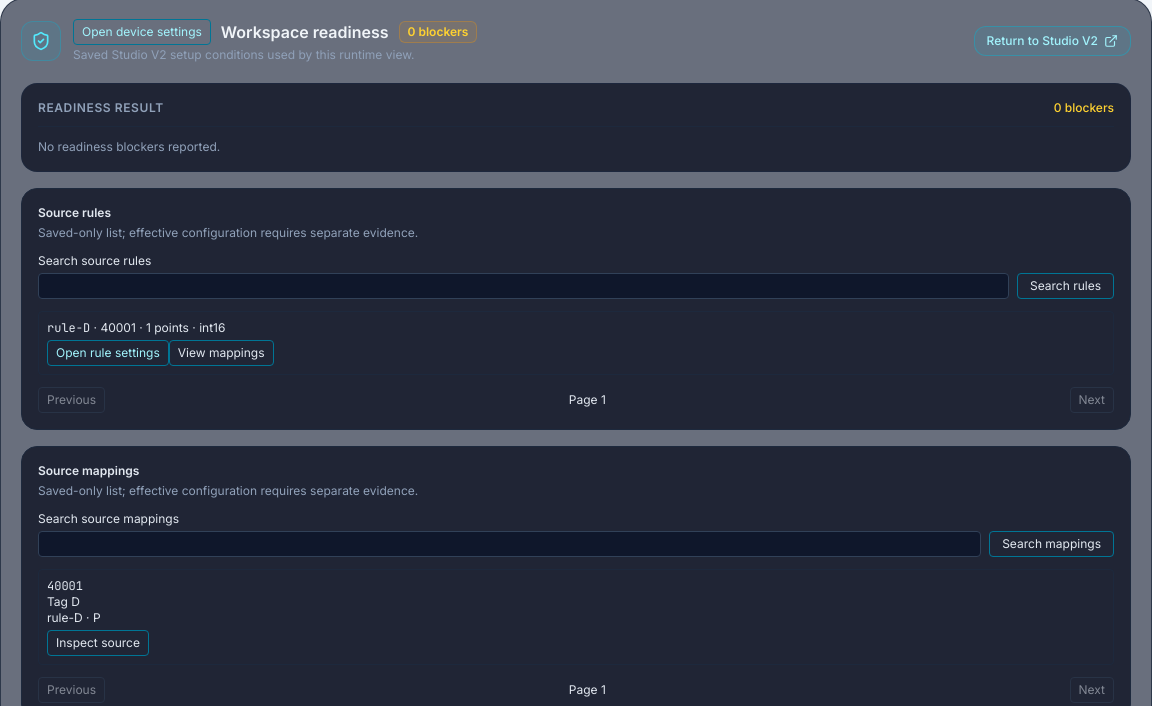
Scenario: single selected-device source inspection › uses an explicit point-only selection without silently selecting a mapping
Click the button with aria-label "Inspect source 40001" at (98, 643), box [47,630,149,656]
(page scrolled)
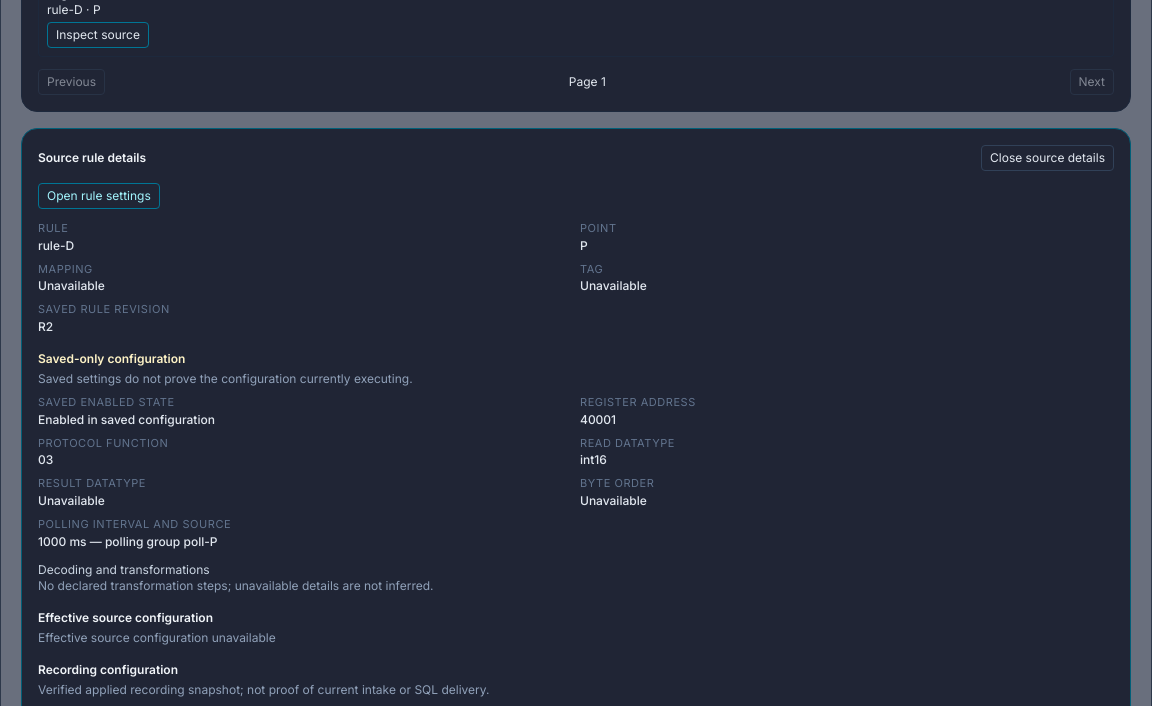
Result: the heading "Saved-only configuration" is shown at [38,351,185,366]
